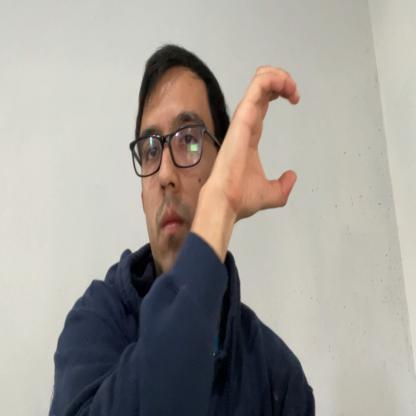C: (226, 65, 301, 218)
